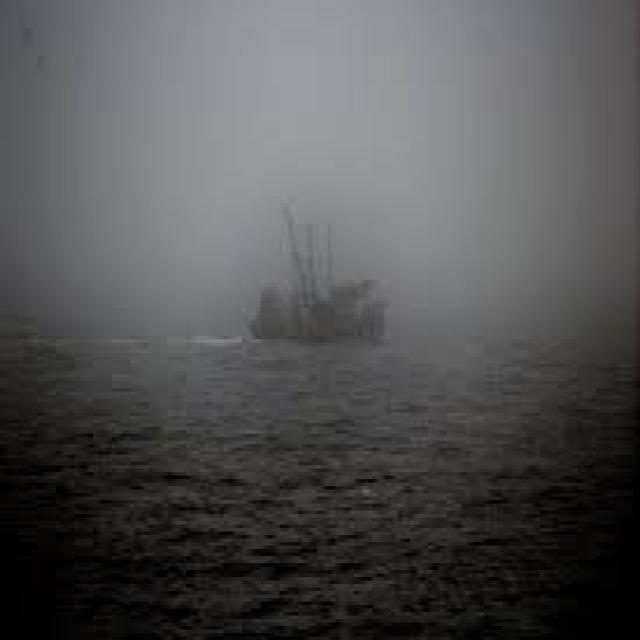fishing boat: (255, 196, 389, 345)
